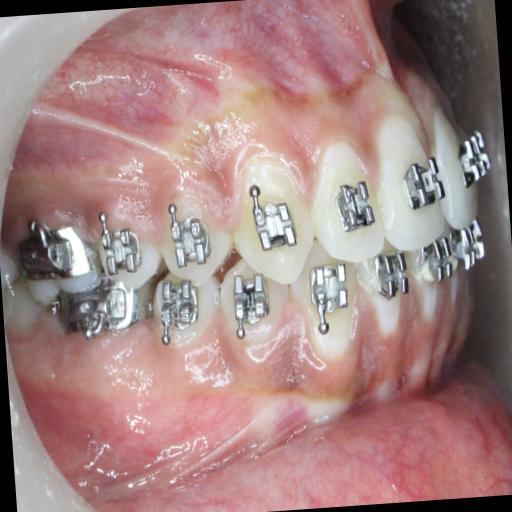correct_brace: (156, 185, 228, 277), (252, 189, 300, 254), (398, 152, 446, 216), (334, 174, 376, 236)
incorrect_brace: (308, 129, 381, 262), (172, 214, 214, 269)
